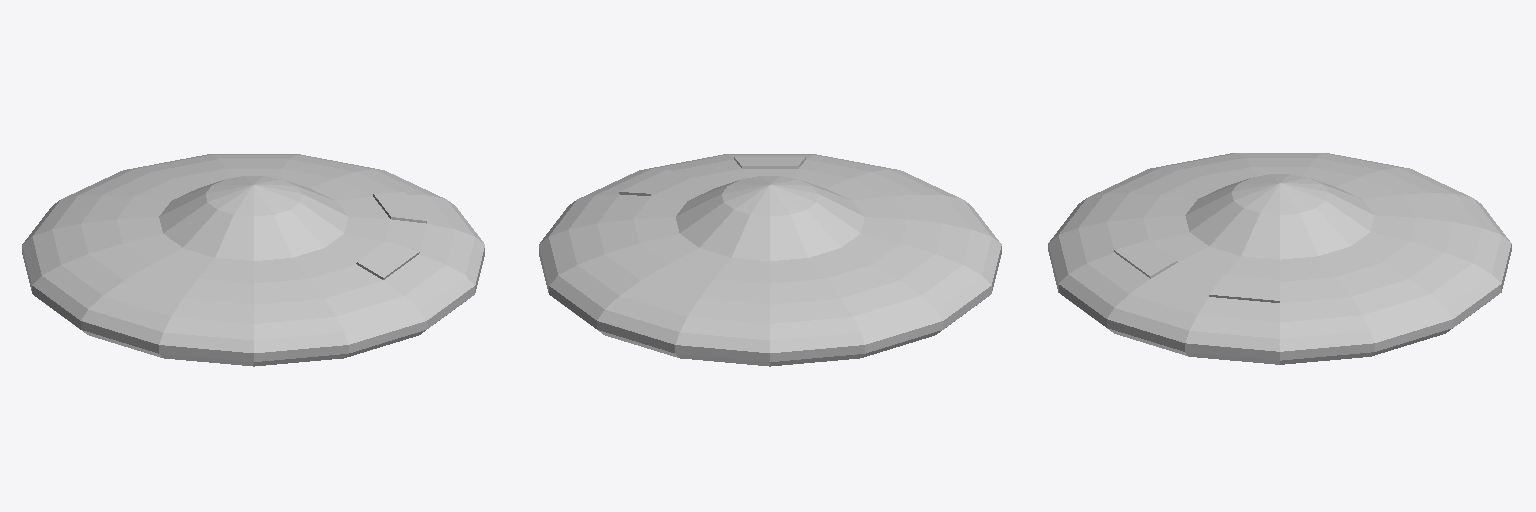
Rendered from ovni.obj.
3 views of the same model, side by side, from view 1: azimuth 30°, elevation 25°; view 2: azimuth 150°, elevation 25°; view 3: azimuth 270°, elevation 25° (orthographic).
Parts seen in each view (by area): view 1: pSphere1_Mesh; view 2: pSphere1_Mesh; view 3: pSphere1_Mesh.
Boxes of the visible parts, x1,y1,x2,y2 form: pSphere1_Mesh: [22, 154, 484, 366]; pSphere1_Mesh: [539, 154, 1001, 366]; pSphere1_Mesh: [1048, 153, 1511, 364].
Size of the model in its own units: 3.43 by 1.18 by 3.44.